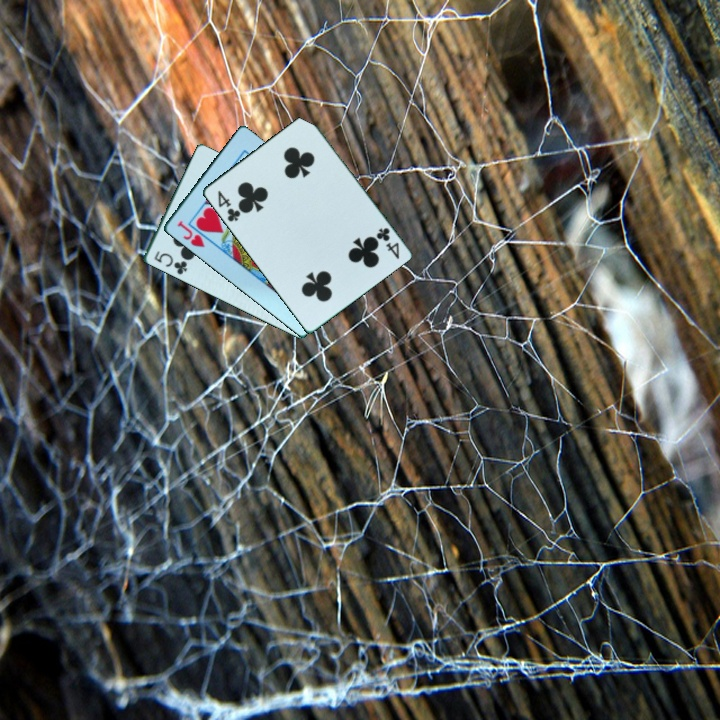4c: (372, 224, 402, 262), (214, 187, 243, 225)
5c: (150, 247, 190, 278)
Jh: (173, 217, 207, 250)
